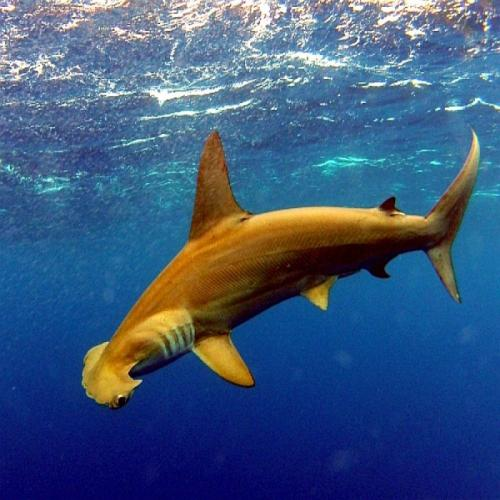shark-endangered: (83, 132, 480, 409)
